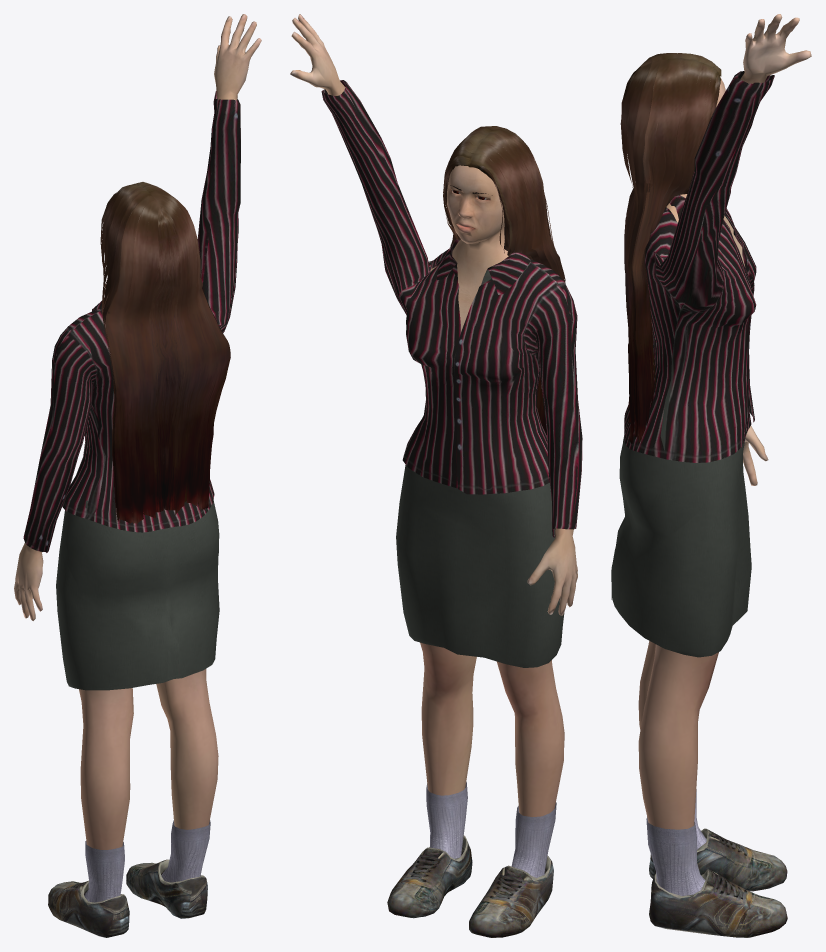
The model's file is fist_up_2.gltf.
3 renders of one model, left to right at view 1: azimuth 30°, elevation 25°; view 2: azimuth 150°, elevation 25°; view 3: azimuth 270°, elevation 25°, orthographic. The views are drawn at different scales.
Visible parts, largest first — view 1: fist_up; view 2: fist_up; view 3: fist_up.
Boxes of the visible parts, x1,y1,x2,y2 form: fist_up: (14,14,261,937); fist_up: (290,14,582,937); fist_up: (611,14,811,937).
Bounding box in the file's own units: 0.6058 × 1.95 × 0.3642.
Materials: 6 (6 with a texture image).
